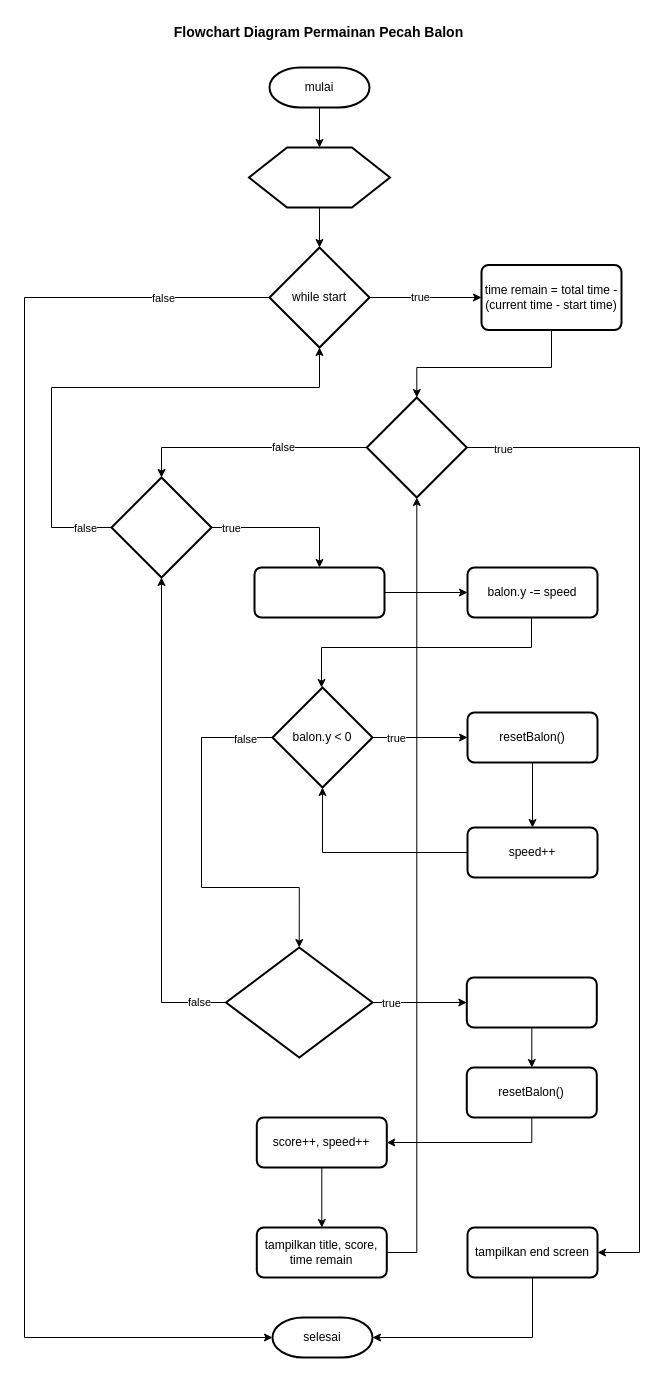
Image size: 665x1375. Some labels were removed from this diagram. The centre of each missing label's shape, as x and y in pixels:
"akses tiap elemen koordinat balon di list rectBalloons" belongs at (x=319, y=592).
"inisialisasi fitur permainan dan kamera" belongs at (x=319, y=177).
"koordinat telunjuk bersentuhan dengan koordinat balon" belongs at (x=298, y=1002).
"play fx balon pecah" belongs at (x=531, y=1002).
"tangan terdeteksi" belongs at (x=161, y=527).
"time remain < 0" belongs at (x=416, y=447).
